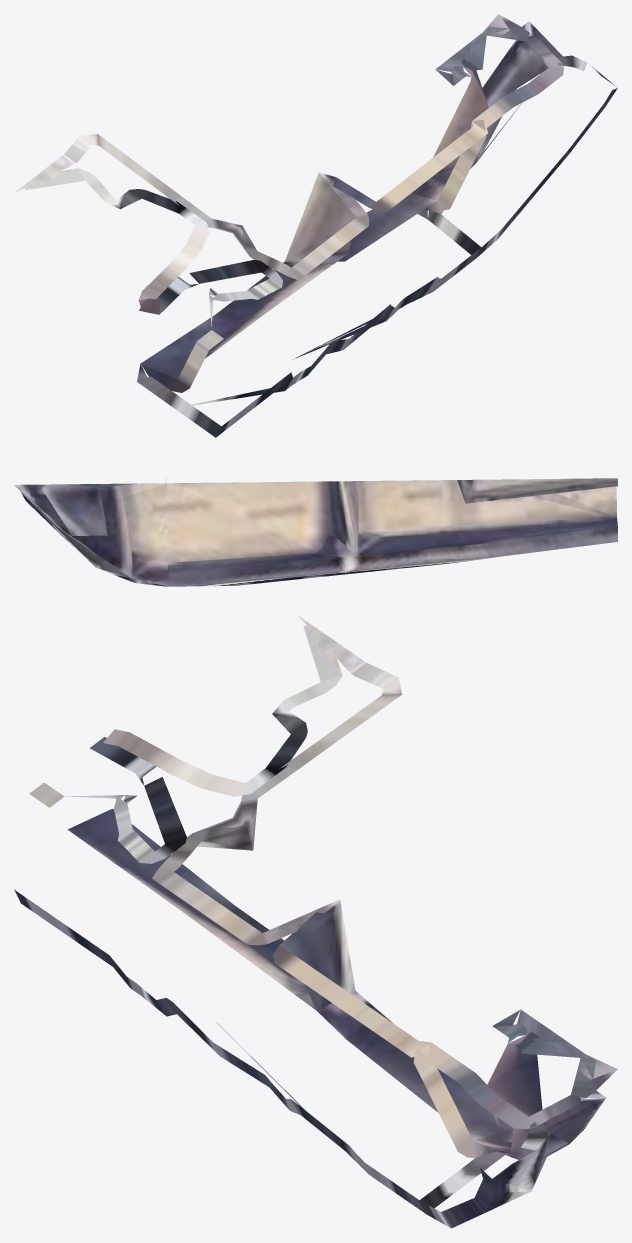
3 views of the same model, one above another, from view 1: azimuth 30°, elevation 25°; view 2: azimuth 150°, elevation 25°; view 3: azimuth 270°, elevation 25° (orthographic). The views are drawn at different scales.
Bounding box in the file's own units: 23.33 × 7.54 × 14.31.
1 material, 1 textured.
